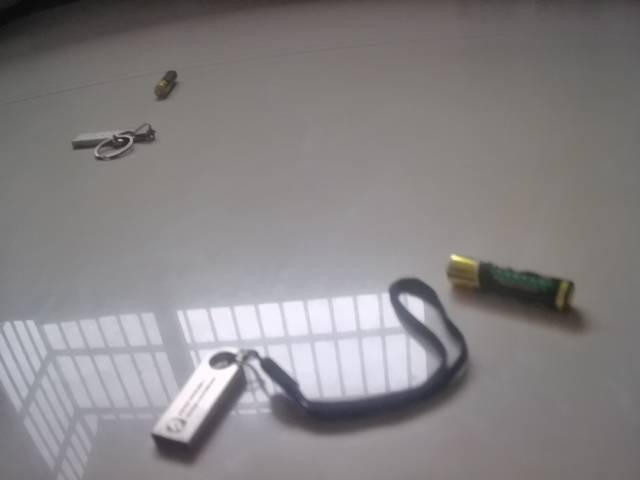U-disk: (144, 334, 330, 463), (73, 121, 163, 172)
battery: (441, 245, 581, 326), (149, 70, 187, 104)
